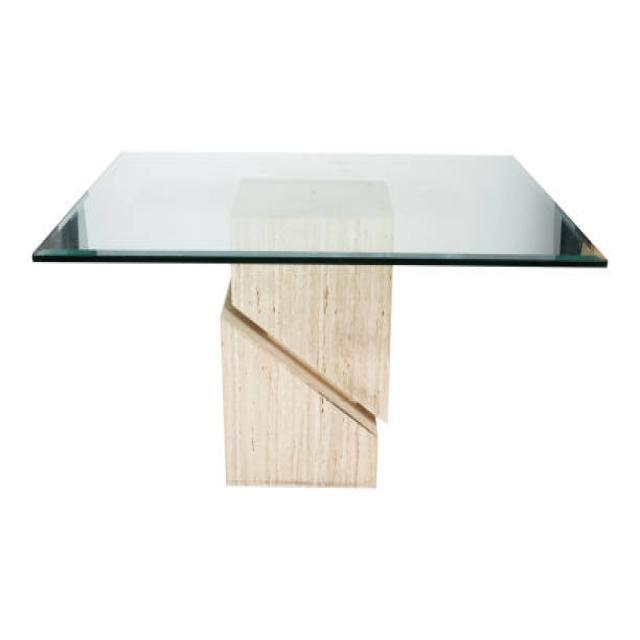table: (31, 147, 608, 488)
